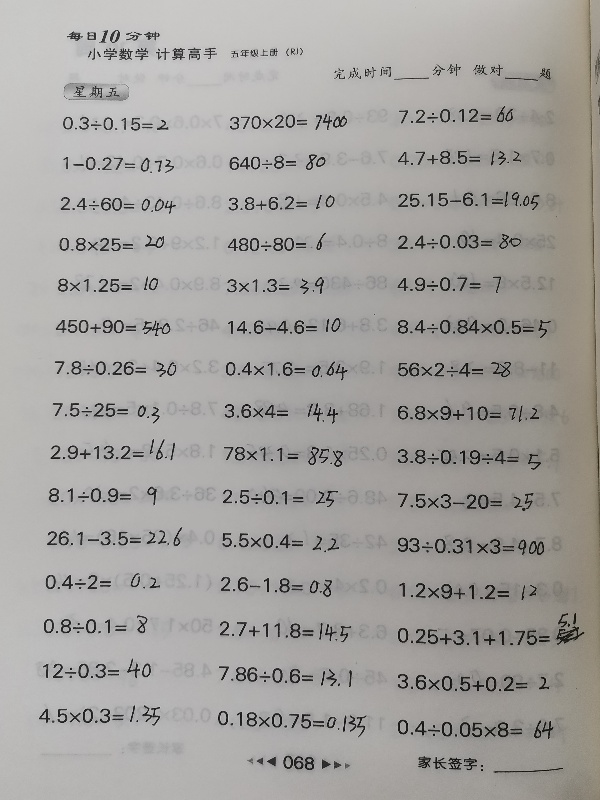equation: (394, 612, 590, 652), (213, 709, 369, 738), (40, 567, 174, 599), (393, 715, 557, 741), (393, 313, 554, 339), (219, 397, 349, 427), (394, 186, 542, 212), (393, 671, 553, 695), (393, 445, 544, 470), (395, 489, 538, 515), (393, 534, 547, 558), (44, 524, 186, 550), (48, 436, 179, 464), (216, 617, 354, 643), (35, 700, 163, 728), (394, 402, 543, 426), (215, 663, 355, 688), (395, 579, 540, 603), (219, 441, 346, 468), (221, 356, 351, 381), (219, 486, 341, 511), (39, 656, 155, 682), (395, 230, 526, 253), (395, 147, 525, 170), (217, 573, 335, 598), (394, 358, 516, 382), (40, 612, 152, 638), (226, 111, 352, 134), (218, 530, 342, 553), (51, 357, 180, 379), (45, 484, 163, 508), (52, 315, 174, 338), (394, 103, 516, 126), (49, 399, 164, 423), (224, 315, 344, 338), (59, 153, 177, 176), (394, 273, 506, 297), (57, 193, 179, 215), (224, 230, 329, 255), (55, 232, 168, 255), (224, 191, 338, 213), (224, 274, 328, 298), (225, 150, 329, 174), (58, 113, 171, 135), (53, 274, 162, 296)
